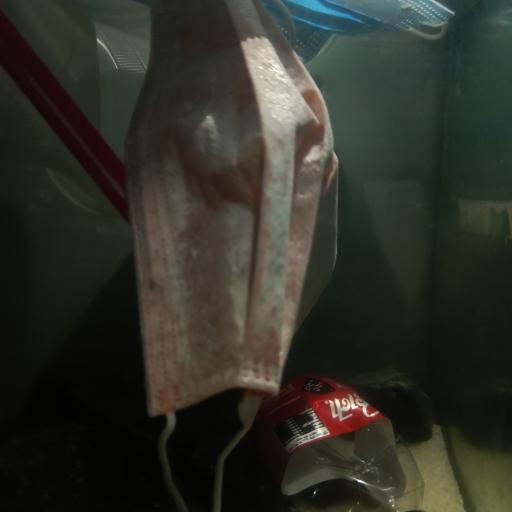mask: (136, 0, 336, 481), (270, 0, 458, 64)
plastic_bottle: (228, 369, 427, 512)
plastic_cup: (0, 8, 155, 222)
plastic_straw: (0, 11, 133, 218)
